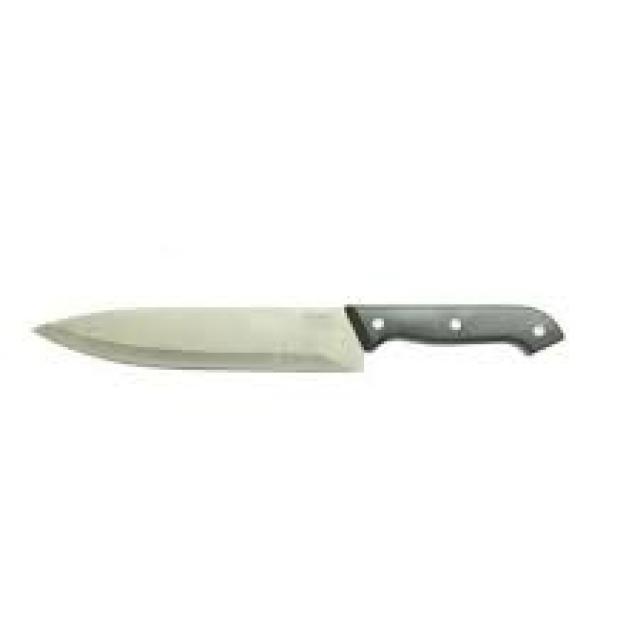Knife: (7, 235, 602, 428)
